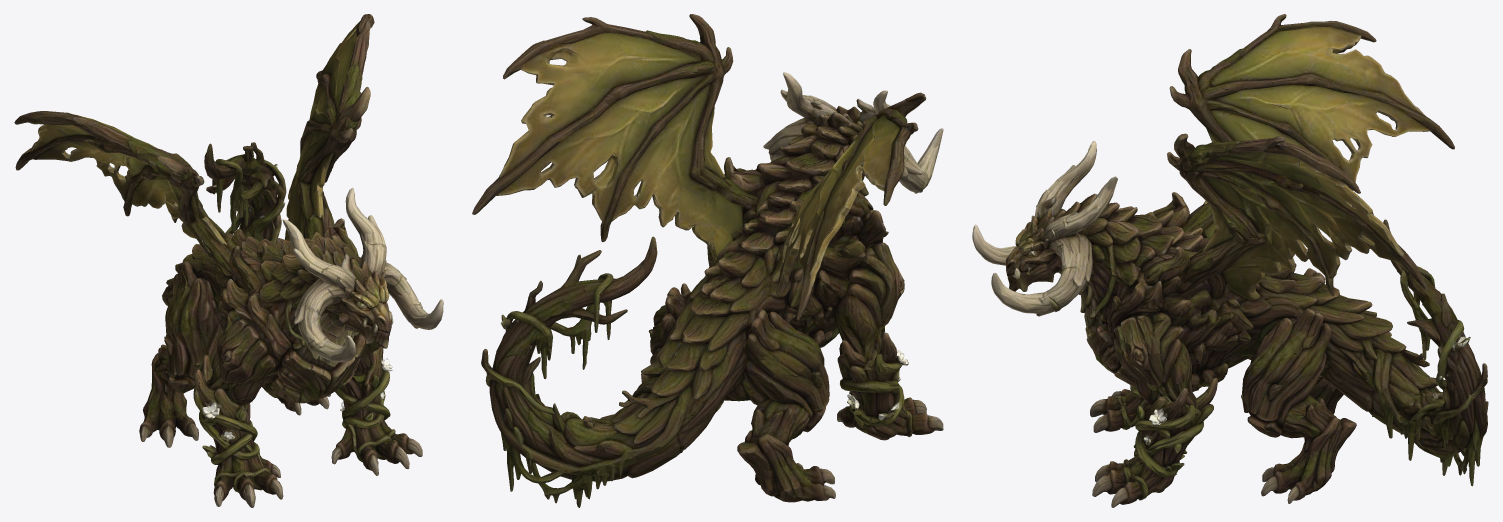
Rendered from forest_dragon_briarlord.glb.
3 renders of one model, left to right at view 1: azimuth 30°, elevation 25°; view 2: azimuth 150°, elevation 25°; view 3: azimuth 270°, elevation 25°, orthographic. The views are drawn at different scales.
Parts seen in each view (by area): view 1: Mesh_0; view 2: Mesh_0; view 3: Mesh_0.
Boxes of the visible parts, <box> form: Mesh_0: <box>14,14,443,507</box>; Mesh_0: <box>472,14,943,507</box>; Mesh_0: <box>972,14,1488,507</box>.
Bounding box in the file's own units: 1.54 × 1.57 × 1.9.
1 material, 1 textured.
